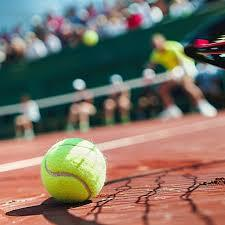ball_tennis: (40, 138, 107, 204), (82, 29, 99, 47)
